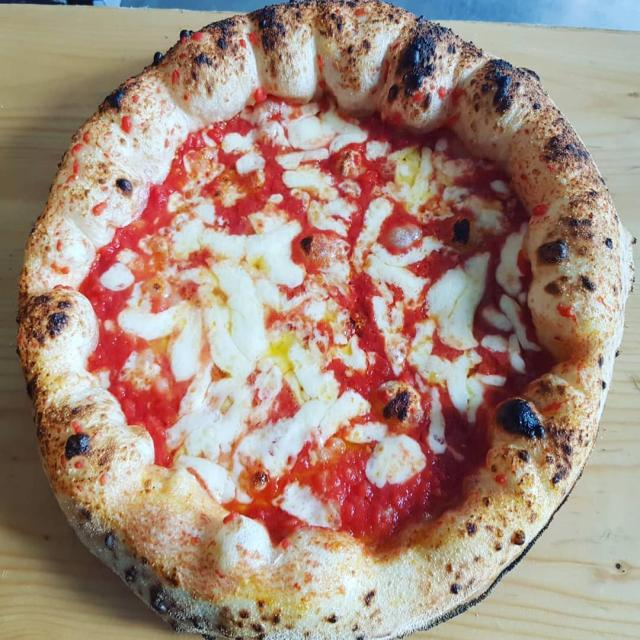pizza: (19, 3, 632, 637)
